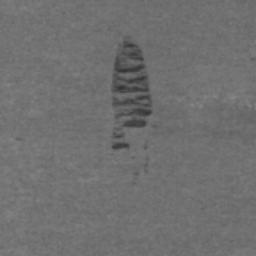Secondary rust skin: (111, 37, 153, 151)
